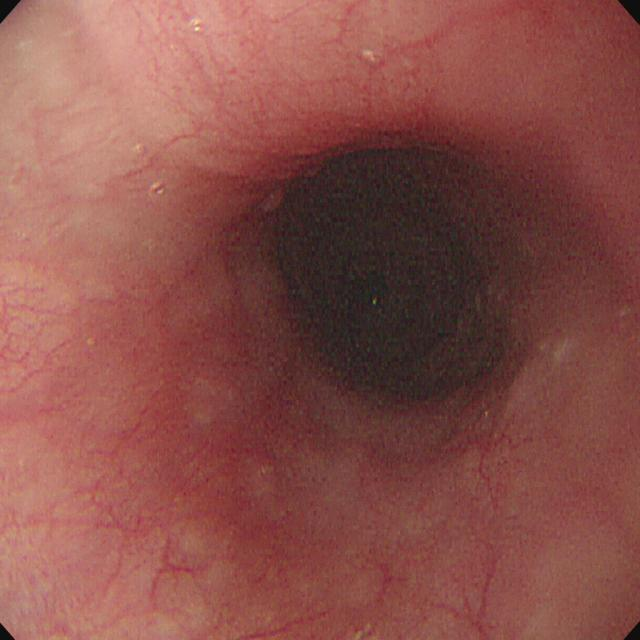E: (274, 130, 510, 411)
